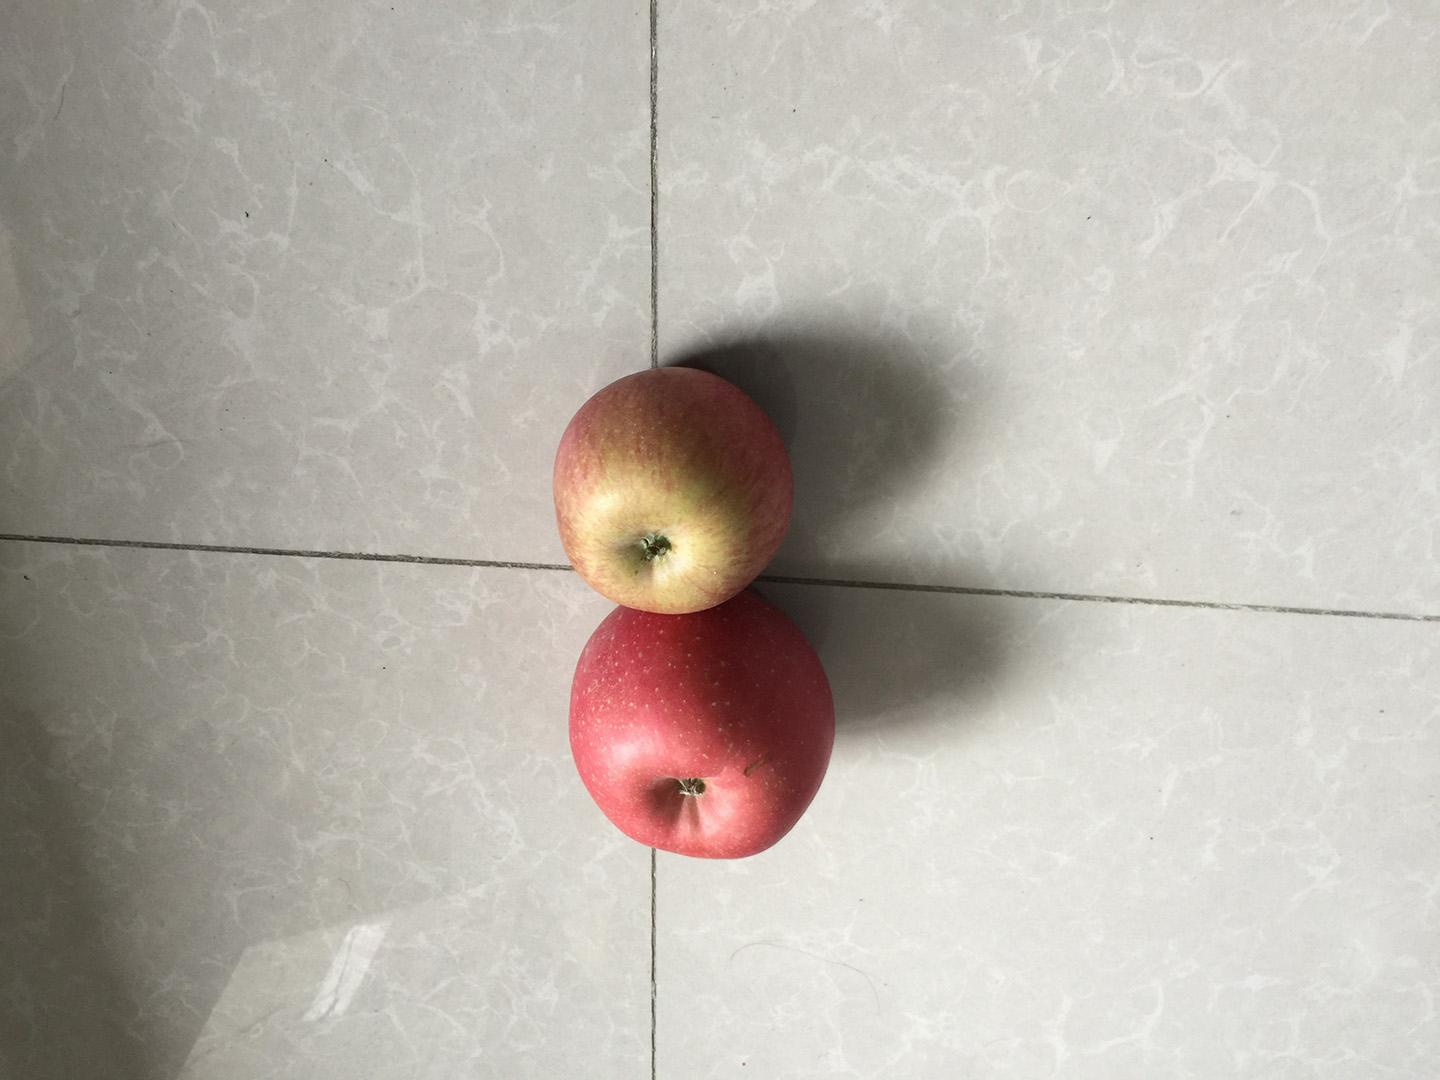apple: (564, 600, 840, 864), (544, 358, 791, 616)
